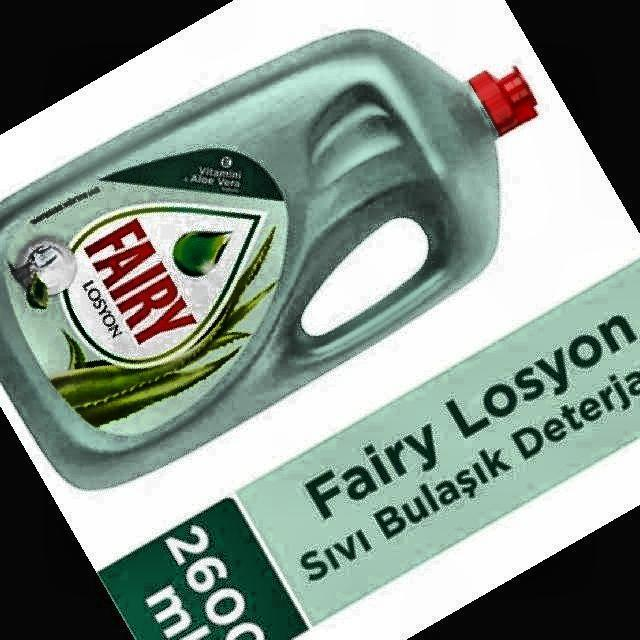plastic: (0, 30, 536, 489)
